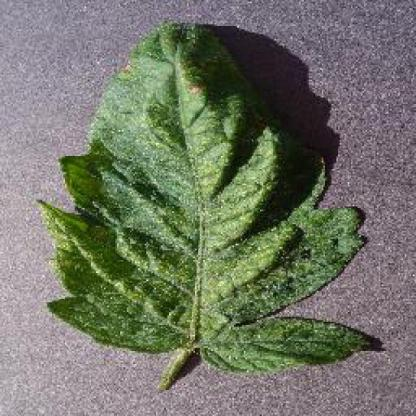Tomato_Spider_Mites: (105, 283, 171, 322), (118, 233, 183, 270)
